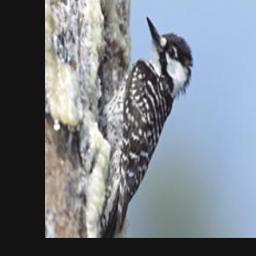Woodpecker: (73, 9, 194, 232)
